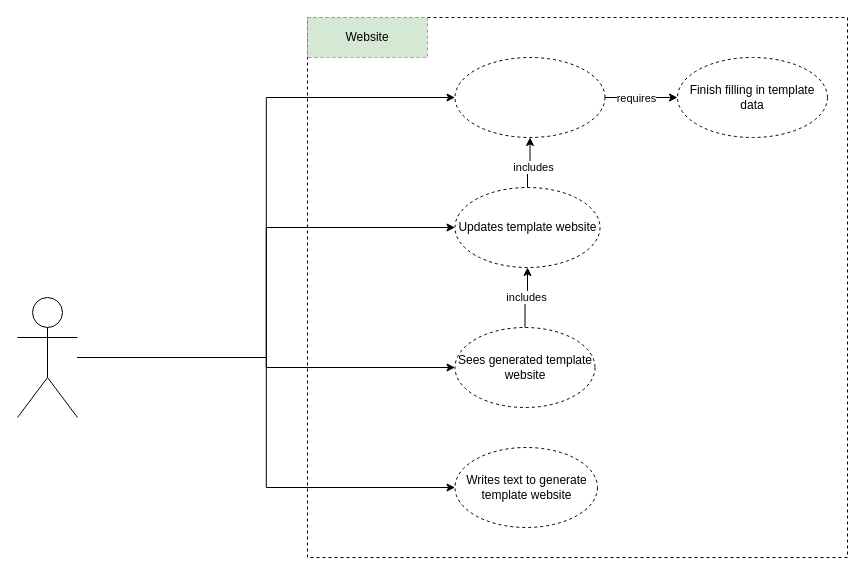
The diagram is 865 pixels wide and 575 high, and some of its shapes have lost their labels. The shapes that lost their labels are listed below. From the top down, each one's centre as x and y in pixels, then its label:
At pixel 529 97: "Persists saved website".
At pixel 47 357: "User".
